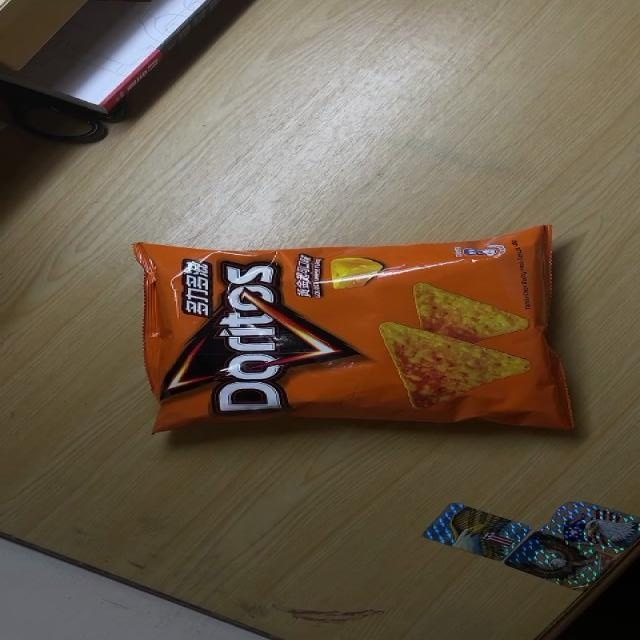Doritos: (132, 222, 569, 436)
